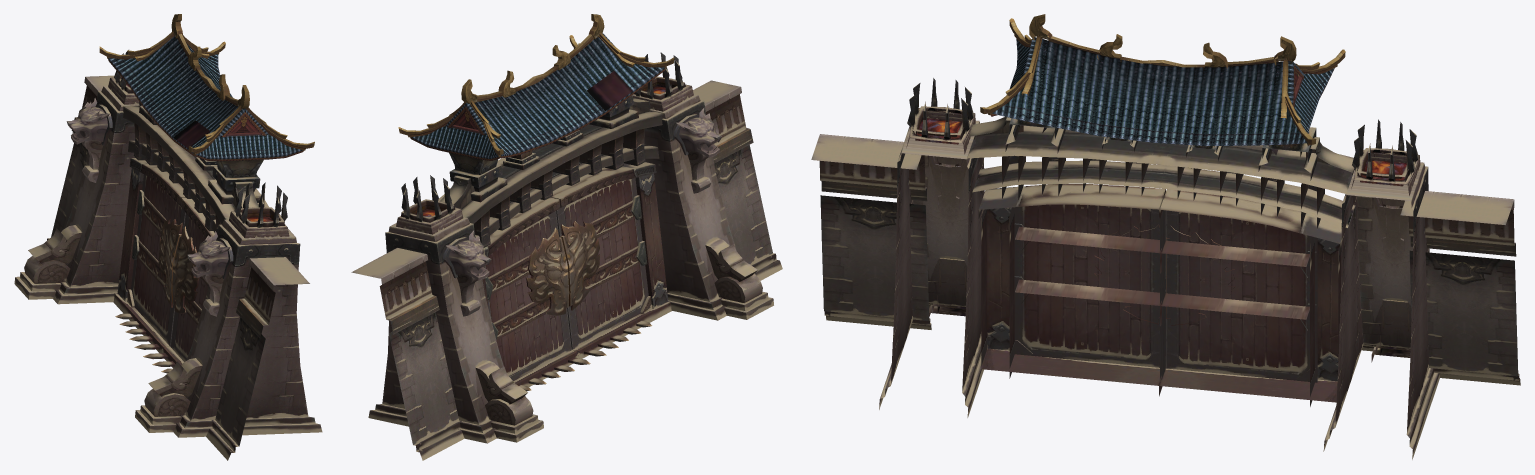
Rendered from zc_lingtuzhan_chengmen01_56_03_6280out.fbx.
3 renders of one model, left to right at view 1: azimuth 30°, elevation 25°; view 2: azimuth 150°, elevation 25°; view 3: azimuth 270°, elevation 25°, orthographic. The views are drawn at different scales.
Visible parts, largest first — view 1: 0002_zc_lingtuzhan_chengmen01, 0000_zc_lingtuzhan_chengmen01, 0001_zc_lingtuzhan_chengmen01; view 2: 0002_zc_lingtuzhan_chengmen01, 0000_zc_lingtuzhan_chengmen01, 0001_zc_lingtuzhan_chengmen01; view 3: 0002_zc_lingtuzhan_chengmen01, 0000_zc_lingtuzhan_chengmen01, 0001_zc_lingtuzhan_chengmen01.
Boxes of the visible parts, x1,y1,x2,y2 form: 0002_zc_lingtuzhan_chengmen01: (14, 50, 322, 460); 0000_zc_lingtuzhan_chengmen01: (108, 36, 303, 161); 0001_zc_lingtuzhan_chengmen01: (99, 14, 314, 154); 0002_zc_lingtuzhan_chengmen01: (351, 52, 782, 460); 0000_zc_lingtuzhan_chengmen01: (410, 33, 665, 160); 0001_zc_lingtuzhan_chengmen01: (398, 14, 674, 156); 0002_zc_lingtuzhan_chengmen01: (811, 78, 1520, 459); 0000_zc_lingtuzhan_chengmen01: (990, 37, 1334, 146); 0001_zc_lingtuzhan_chengmen01: (980, 14, 1345, 145).
Size of the model in its own units: 8.53 by 11.38 by 18.38.
